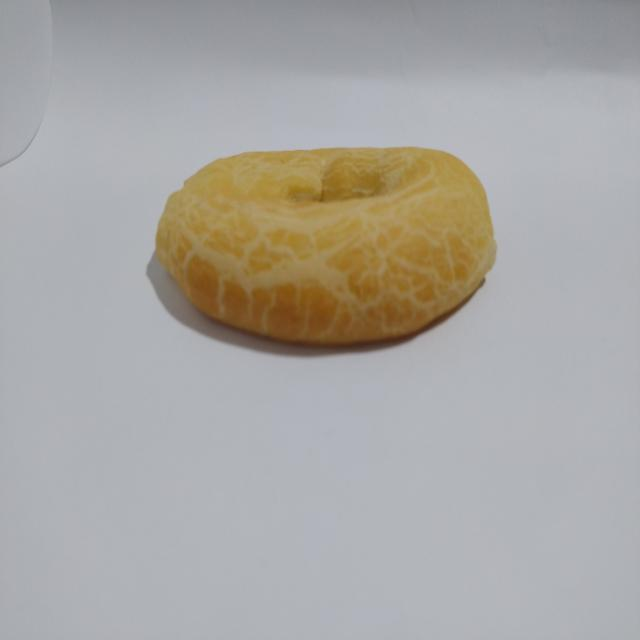Food: (149, 132, 504, 363)
